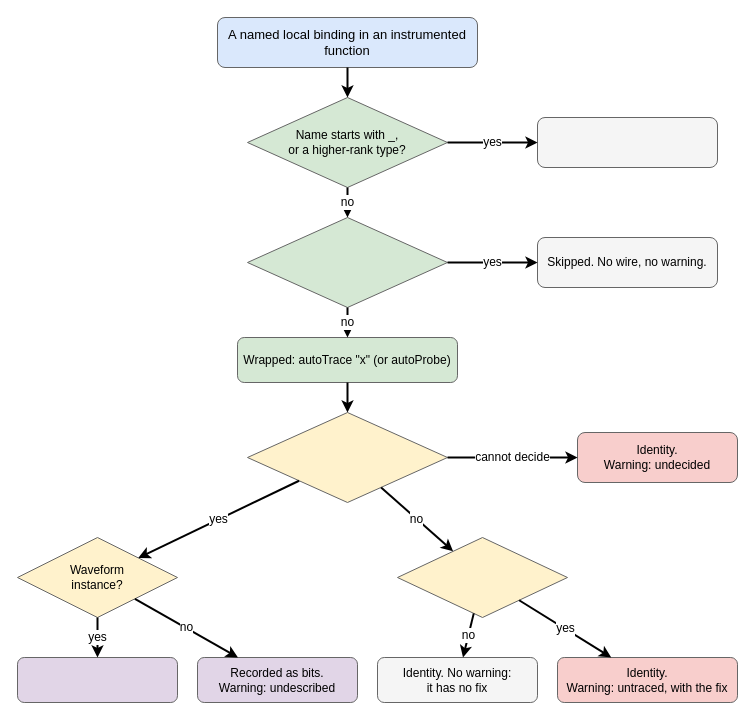
This 755x720 diagram has some shape labels left out. The centre of each missing label's shape, as x and y in pixels:
"Closed, and no signature of its own?" belongs at point 347,262.
"Could anything ever record it?" belongs at point 482,577.
"Left alone. No warning." belongs at point 627,142.
"Recorded and described" belongs at point 97,679.
"The oracle: can it be recorded?" belongs at point 347,457.
